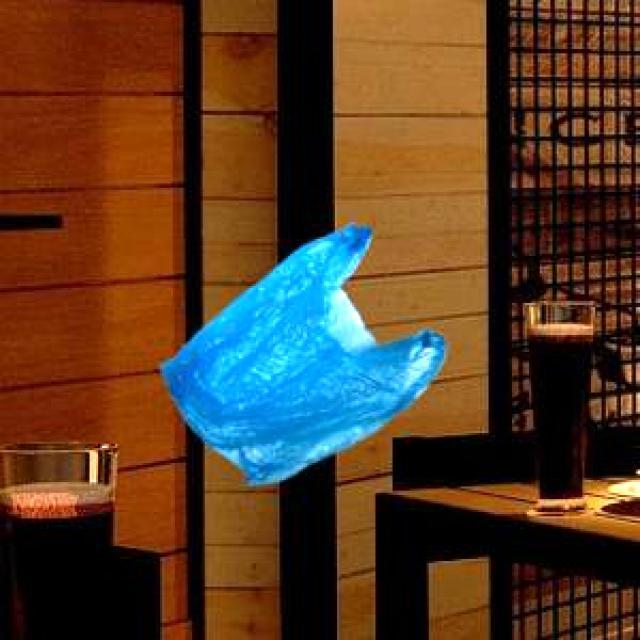Plastic_Bag: (156, 220, 442, 482)
